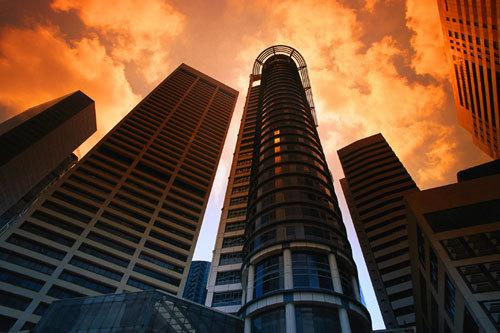building: (31, 45, 375, 333), (0, 62, 241, 333), (339, 132, 500, 333), (0, 88, 99, 238), (436, 0, 500, 162)
